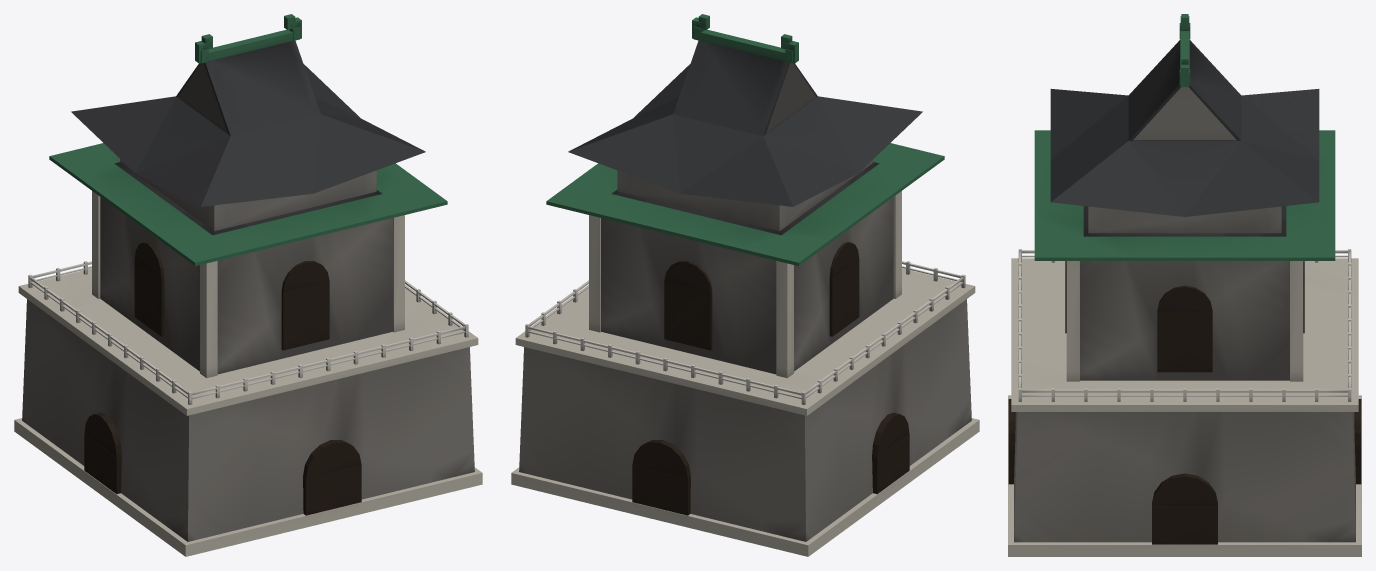
Rendered from bell-tower.glb.
The picture shows the model from 3 angles, left to right: view 1: azimuth 30°, elevation 25°; view 2: azimuth 150°, elevation 25°; view 3: azimuth 270°, elevation 25°; orthographic projection. The views are drawn at different scales.
Visible parts, largest first — view 1: p0_base, p2_roofs, p1_tower; view 2: p0_base, p2_roofs, p1_tower; view 3: p0_base, p2_roofs, p1_tower.
Boxes of the visible parts, <box> form: p0_base: <box>14,261,482,556</box>; p2_roofs: <box>49,14,447,265</box>; p1_tower: <box>92,191,404,378</box>; p0_base: <box>511,261,979,556</box>; p2_roofs: <box>546,14,944,265</box>; p1_tower: <box>589,191,901,378</box>; p0_base: <box>1008,249,1361,556</box>; p2_roofs: <box>1034,14,1335,260</box>; p1_tower: <box>1065,261,1304,381</box>.
Bounding box in the file's own units: 32 × 44.45 × 32.
